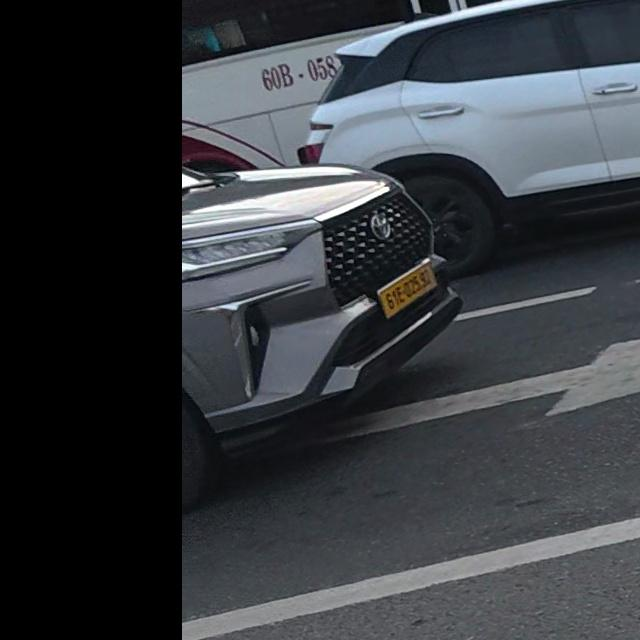license-plate: (377, 262, 436, 318)
